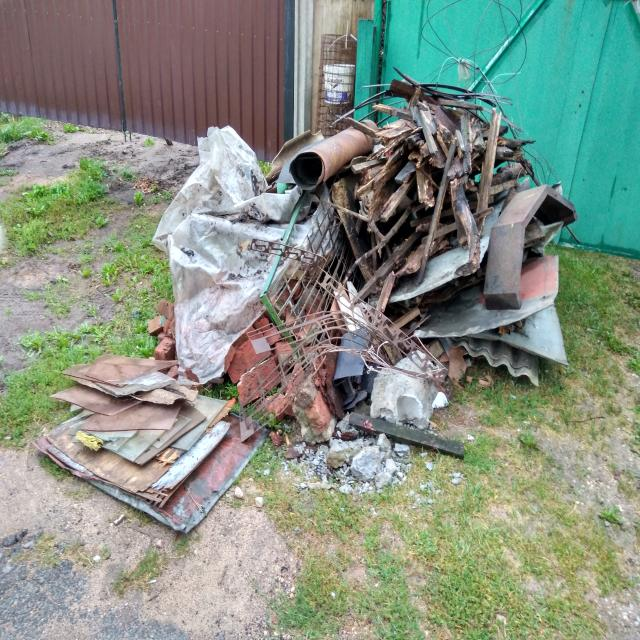entulho: (282, 85, 508, 332), (56, 394, 263, 538), (150, 123, 288, 283), (172, 218, 290, 388), (483, 177, 580, 309), (426, 290, 542, 389), (64, 398, 223, 470), (477, 268, 575, 370), (61, 345, 192, 405), (278, 386, 360, 480), (228, 313, 308, 409), (338, 407, 482, 459), (368, 342, 460, 422), (330, 329, 375, 399)
